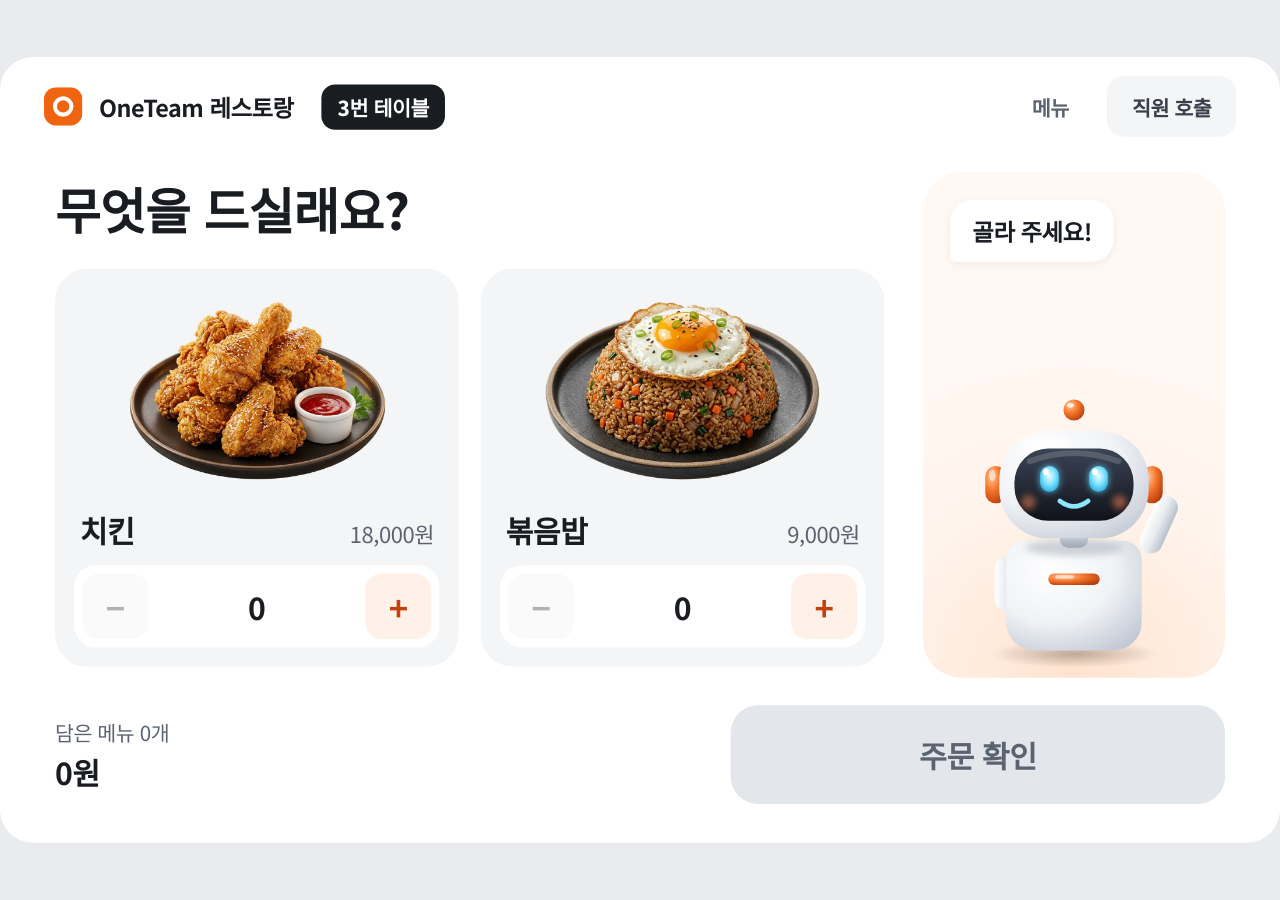
Test: 테이블 태블릿 흐름 › T1 → T2 → 수정 → T2 → 주문하기: WEB-04 형식으로 보낸다
Later steps or results of the test are not shown.
Click the button named "치킨 더하기": (398, 607) [365,574,431,640]
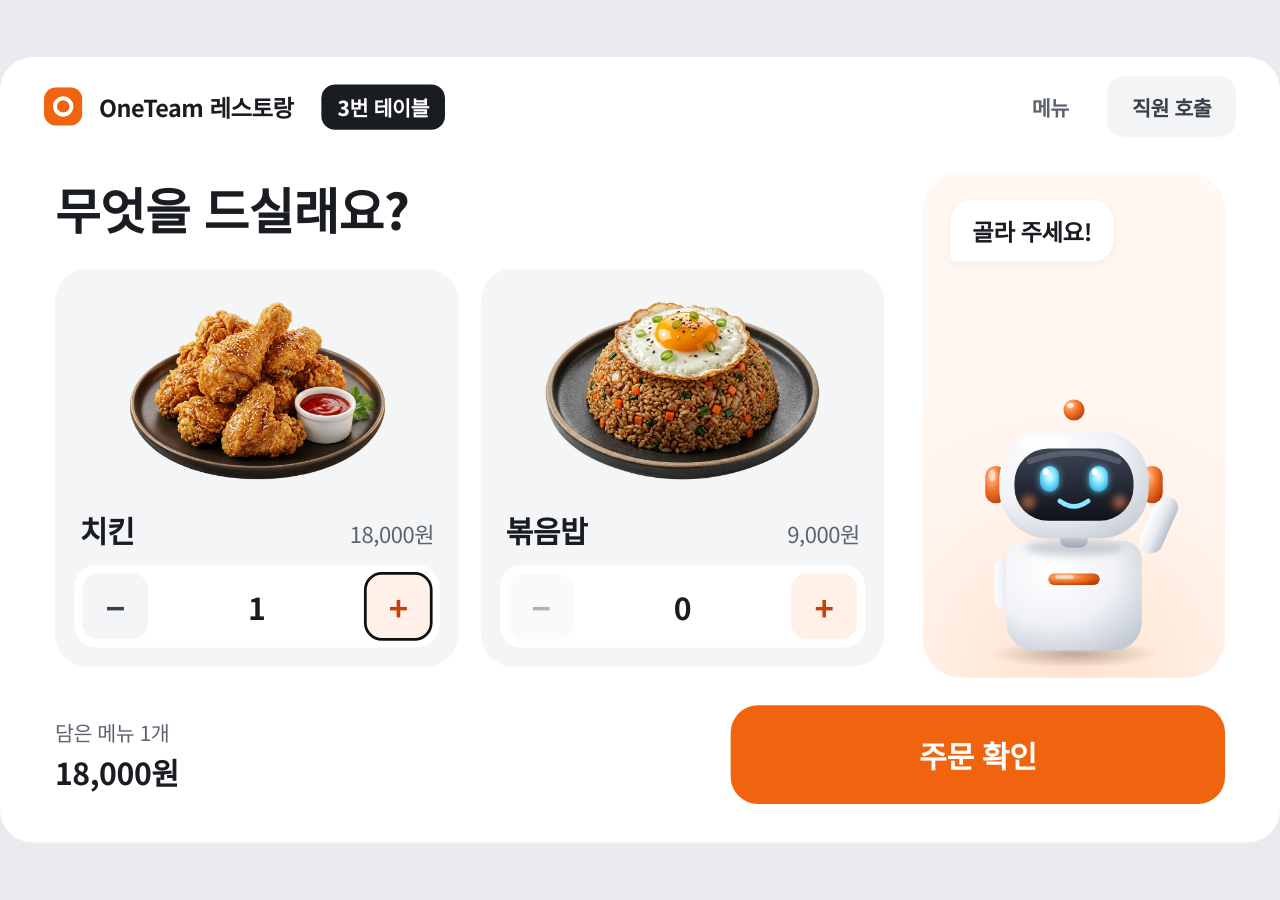
Click the button named "볶음밥 더하기": (824, 607) [791,574,857,640]
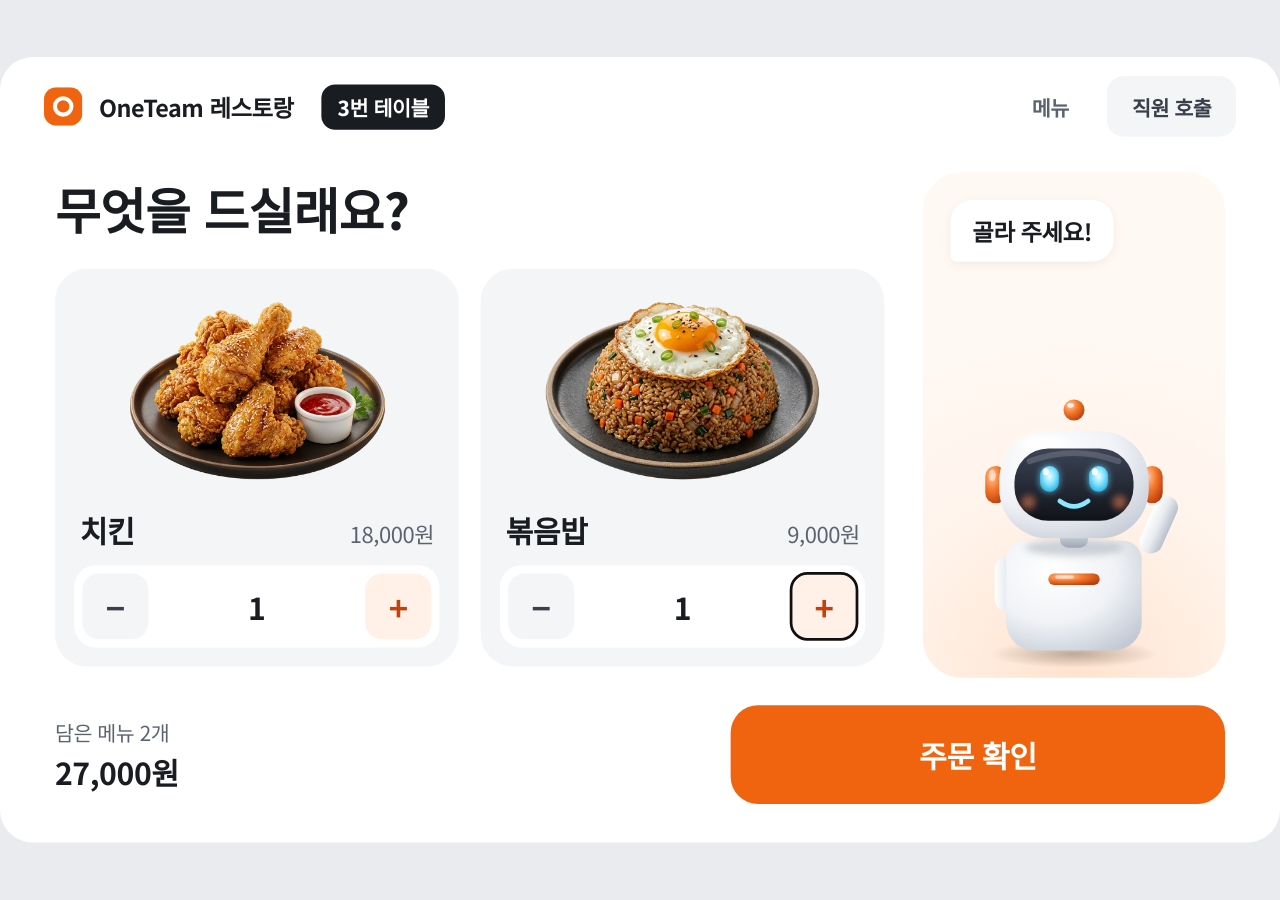
Click the button named "볶음밥 더하기": (824, 607) [791,574,857,640]
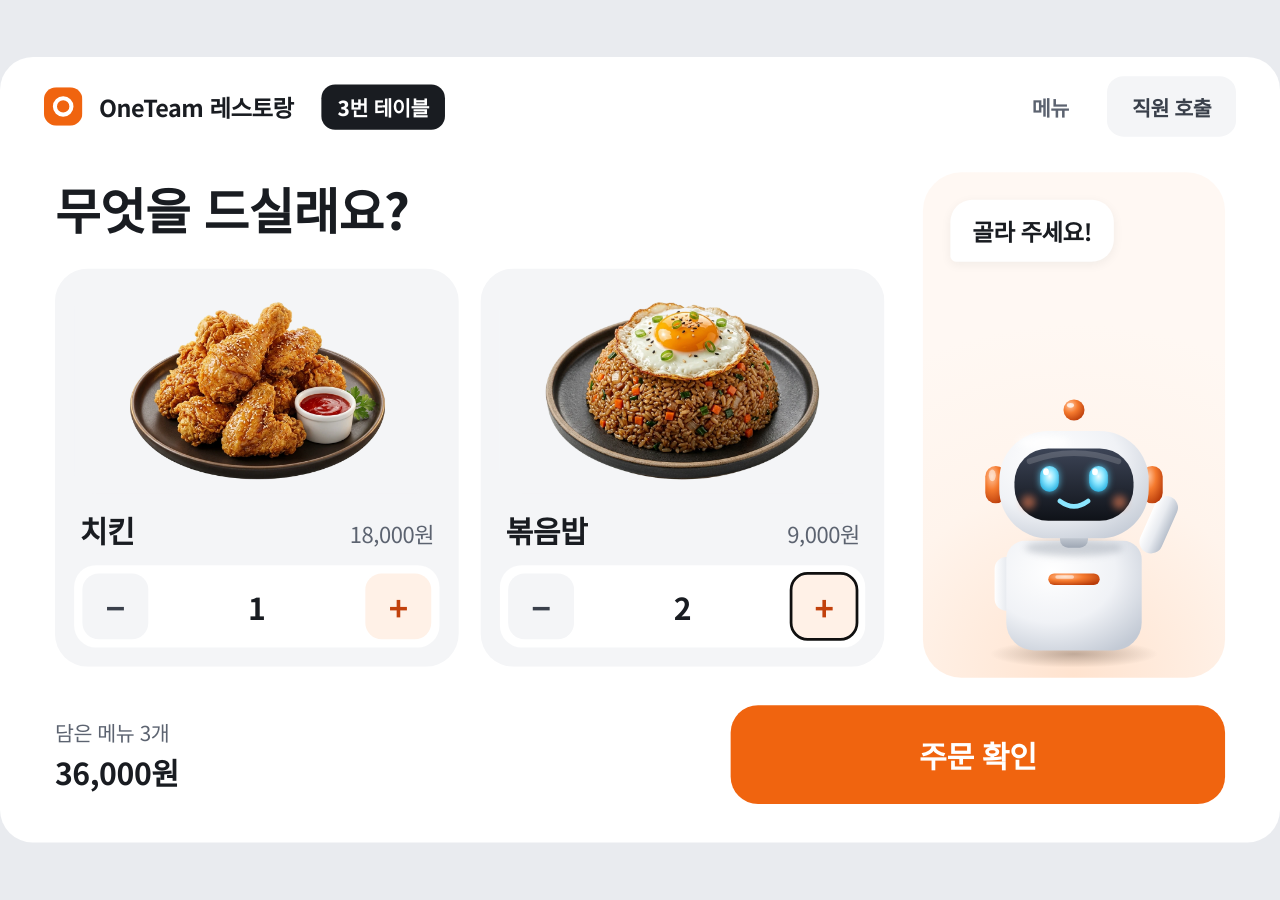
Click the button "주문 확인": (978, 755) [731,705,1225,804]
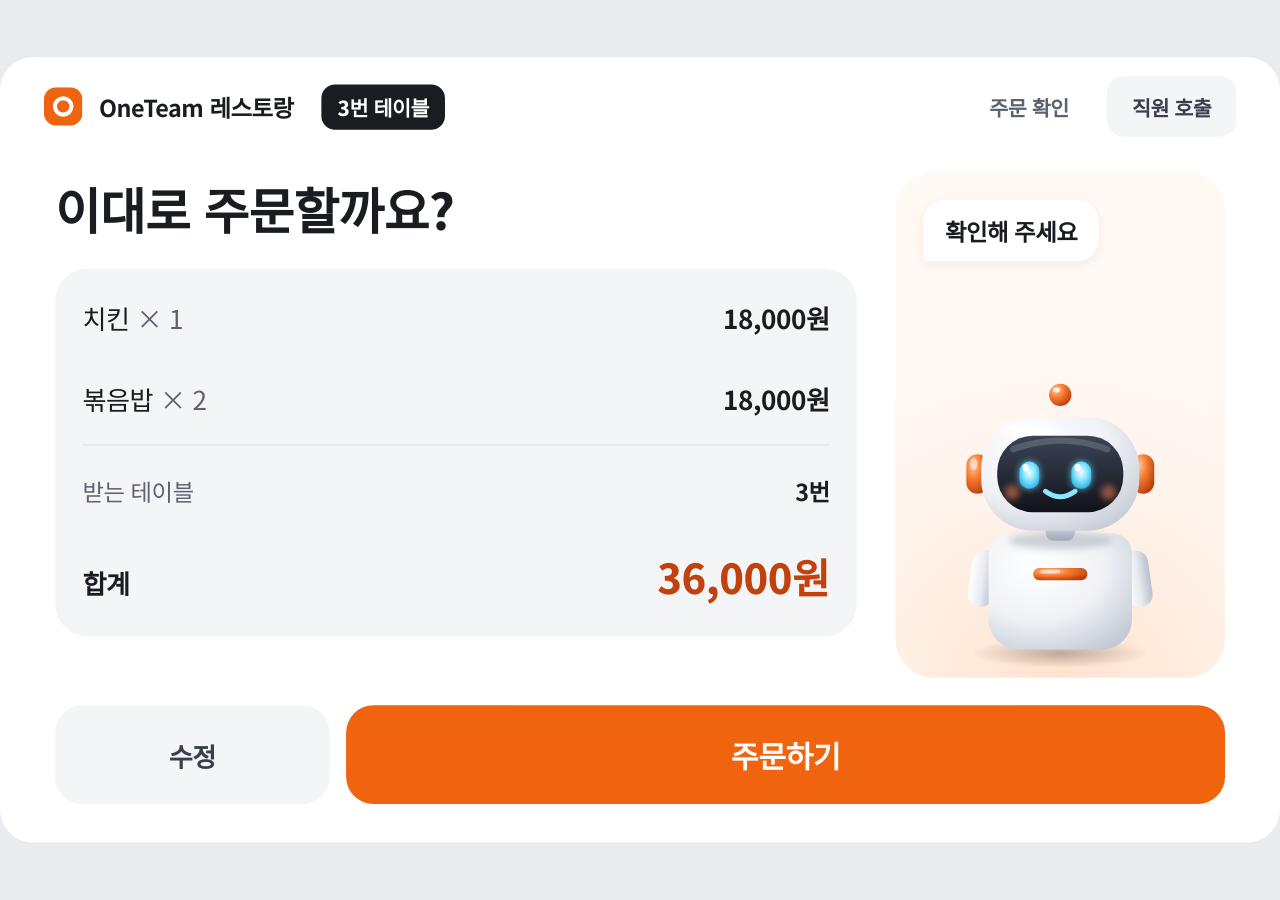
Check: the text "36,000원" is shown, box [657,546,830,606]
Check: the heading "이대로 주문할까요?" is shown, box [55,173,454,244]
Click the button "수정": (192, 755) [55,705,330,804]
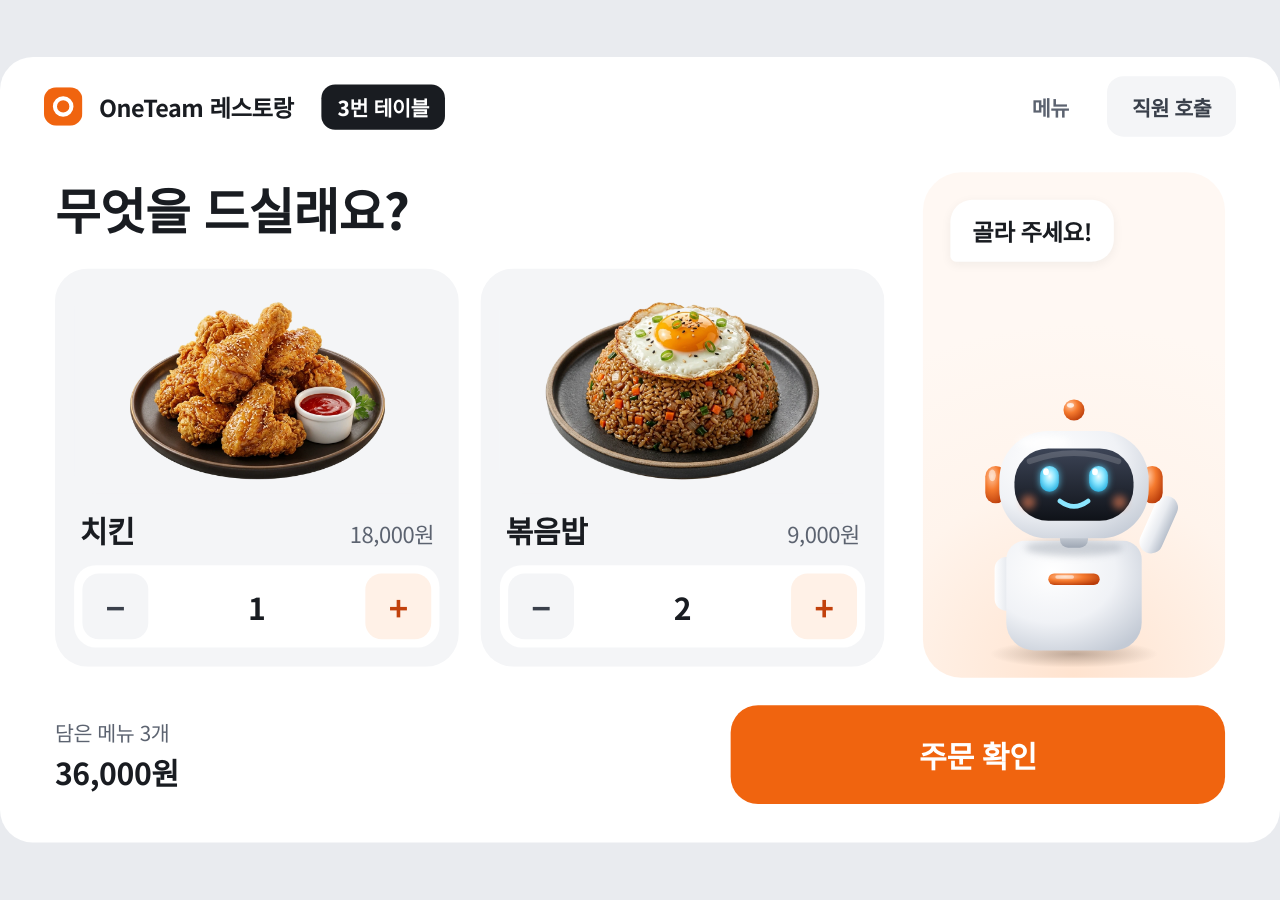
Check: the text "담은 메뉴 3개" is shown, box [55,717,179,746]
